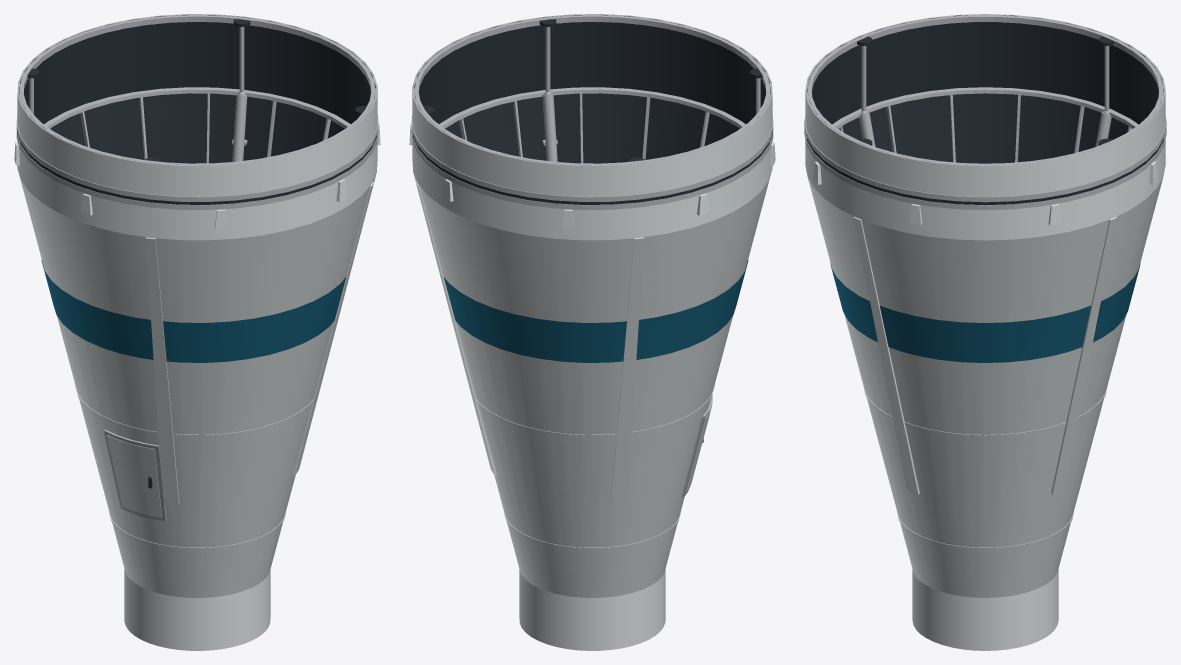
The model's file is interstage_pneumatic_d15_to_d37.glb.
The picture shows the model from 3 angles, left to right: view 1: azimuth 30°, elevation 25°; view 2: azimuth 150°, elevation 25°; view 3: azimuth 270°, elevation 25°; orthographic projection.
Parts seen in each view (by area): view 1: interstage_pneumatic_d15_to_d37_mesh; view 2: interstage_pneumatic_d15_to_d37_mesh; view 3: interstage_pneumatic_d15_to_d37_mesh.
Boxes of the visible parts, <box> form: interstage_pneumatic_d15_to_d37_mesh: <box>14,14,380,650</box>; interstage_pneumatic_d15_to_d37_mesh: <box>409,14,775,650</box>; interstage_pneumatic_d15_to_d37_mesh: <box>804,14,1166,650</box>.
Size of the model in its own units: 3.72 by 6 by 3.72.
